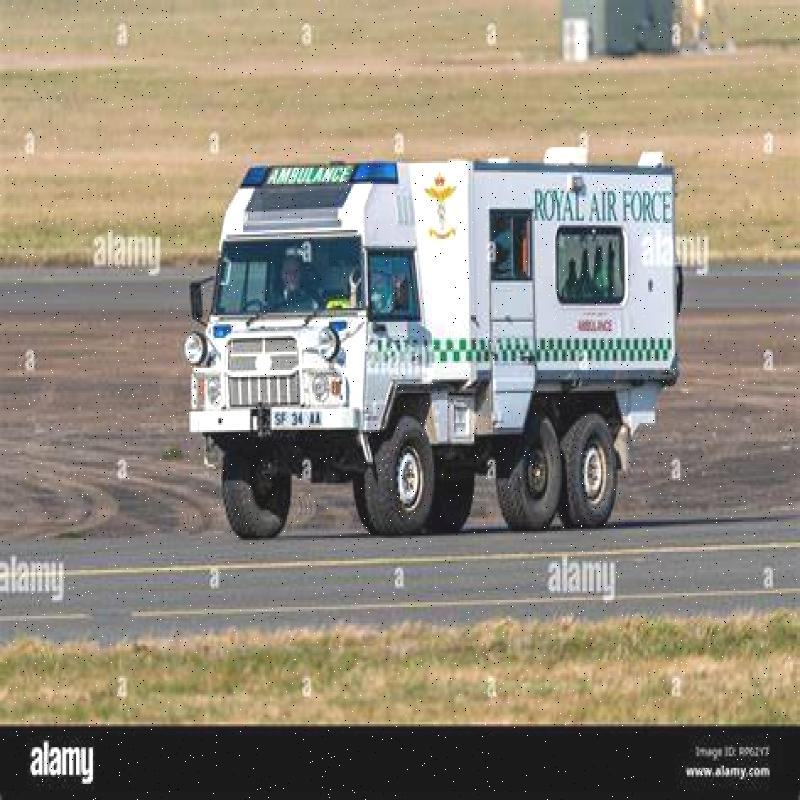AmbulanceSiren: (233, 140, 396, 189)
